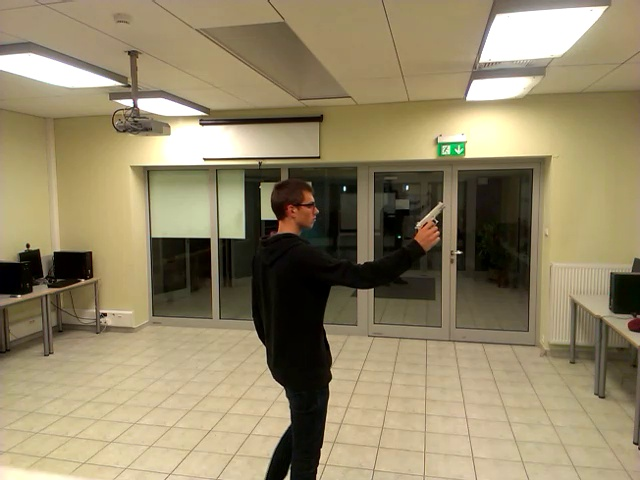gun: (410, 192, 475, 240)
